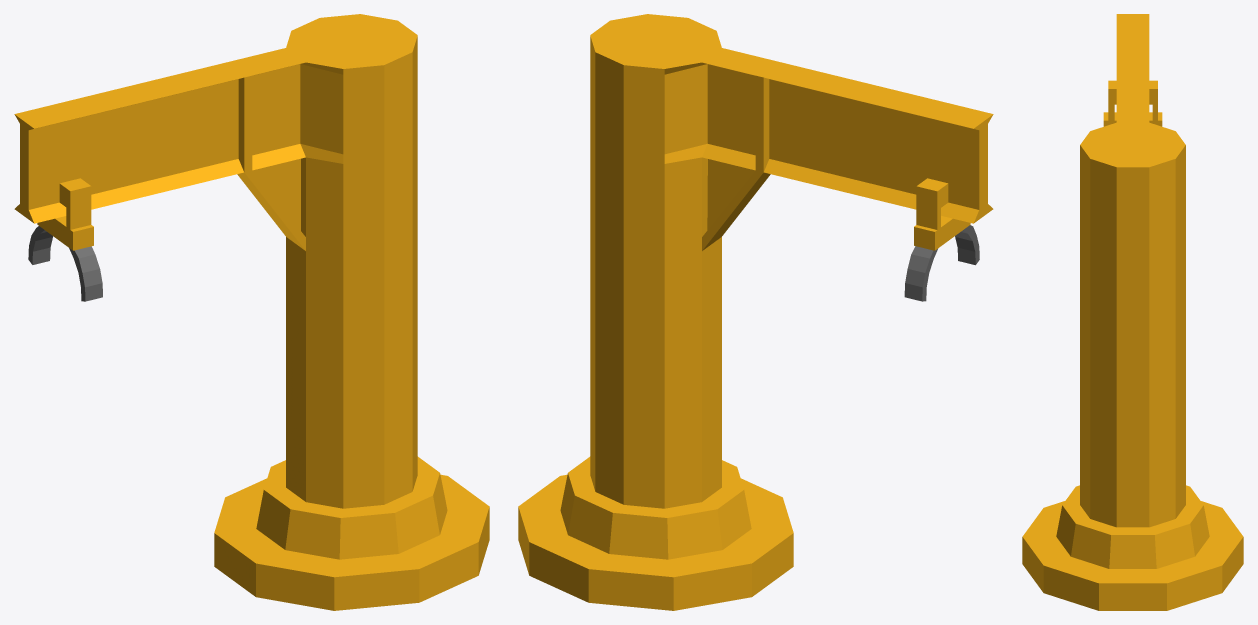
File: CraneModel.fbx
3 renders of one model, left to right at view 1: azimuth 30°, elevation 25°; view 2: azimuth 150°, elevation 25°; view 3: azimuth 270°, elevation 25°, orthographic. The views are drawn at different scales.
Parts seen in each view (by area): view 1: Cylinder.001, Cylinder, Cube.003, Cube.001, Cube.002, Cube; view 2: Cylinder.001, Cylinder, Cube.003, Cube, Cube.002, Cube.001; view 3: Cylinder.001, Cylinder, Cube.003.
Part boxes in pixels (x1,y1,x2,y2): Cylinder.001: (14, 14, 417, 508); Cylinder: (214, 456, 489, 610); Cube.003: (59, 178, 91, 229); Cube.001: (69, 246, 102, 301); Cube.002: (37, 216, 93, 250); Cube: (28, 226, 52, 264); Cylinder.001: (590, 14, 993, 508); Cylinder: (518, 456, 793, 610); Cube.003: (916, 178, 948, 229); Cube: (904, 246, 938, 301); Cube.002: (914, 216, 970, 250); Cube.001: (955, 225, 979, 265); Cylinder.001: (1080, 14, 1185, 527); Cylinder: (1022, 485, 1243, 610); Cube.003: (1108, 80, 1157, 120).
Size of the model in its own units: 571 by 628 by 300.
